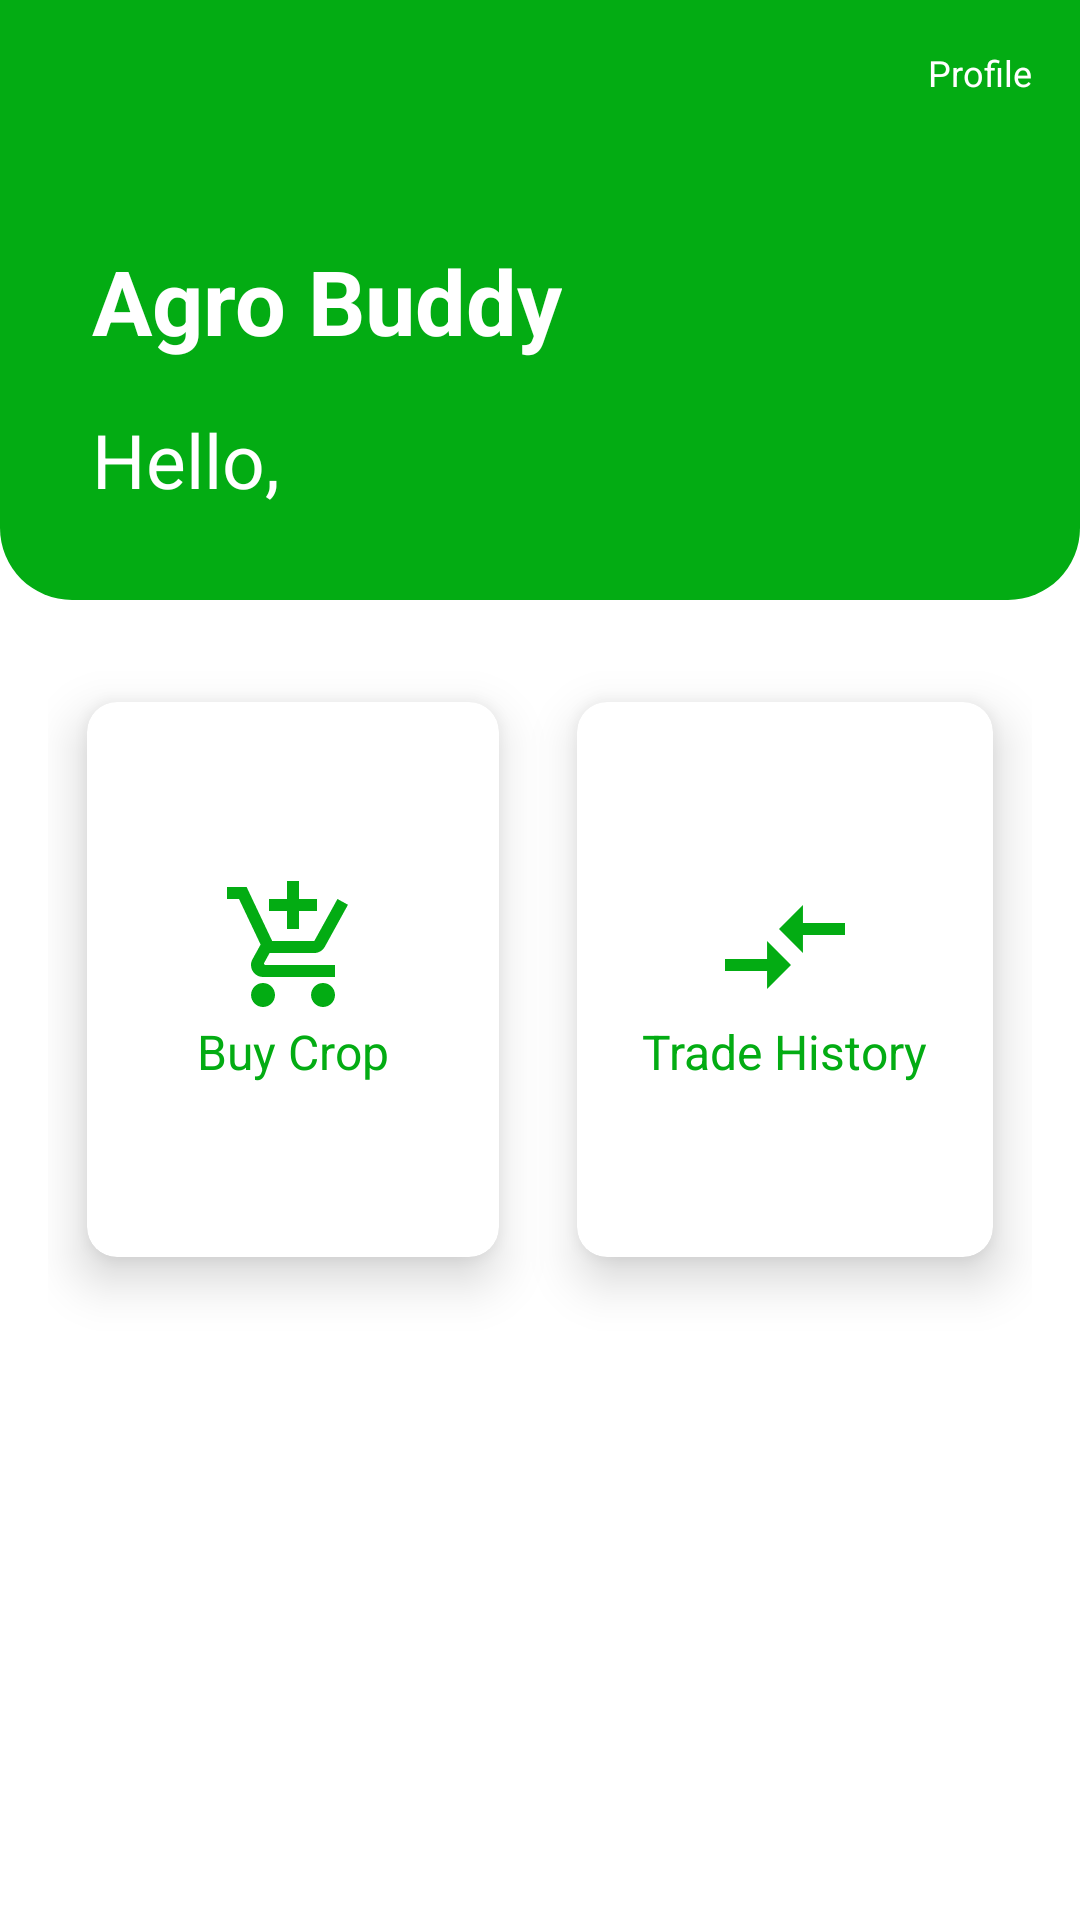

Where icons sit on this 1080x1920 app screen, as bbox=[x1, y1, x2, y2]:
add shopping cart: bbox=[227, 881, 348, 1007]
